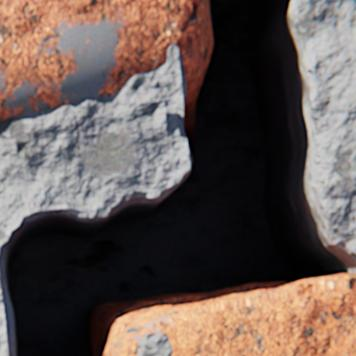brick: (0, 0, 197, 122), (153, 275, 355, 355)
crack: (1, 0, 355, 355)
